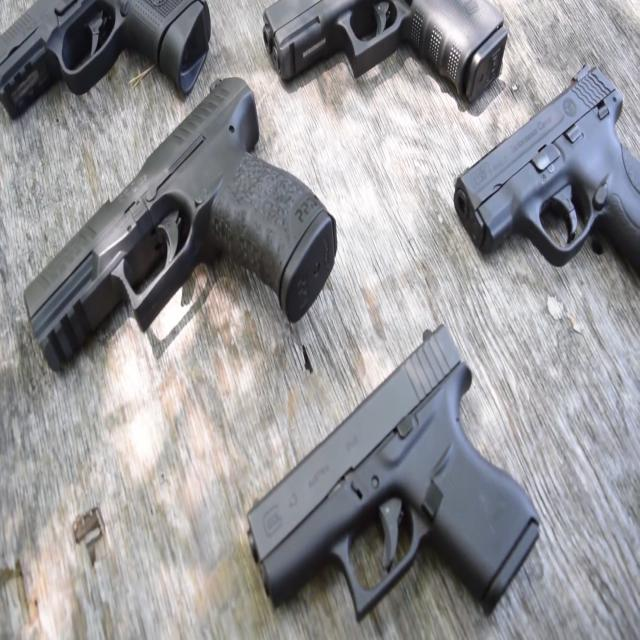handgun: (2, 70, 340, 436), (241, 327, 553, 637), (429, 48, 640, 278), (259, 2, 522, 83)
